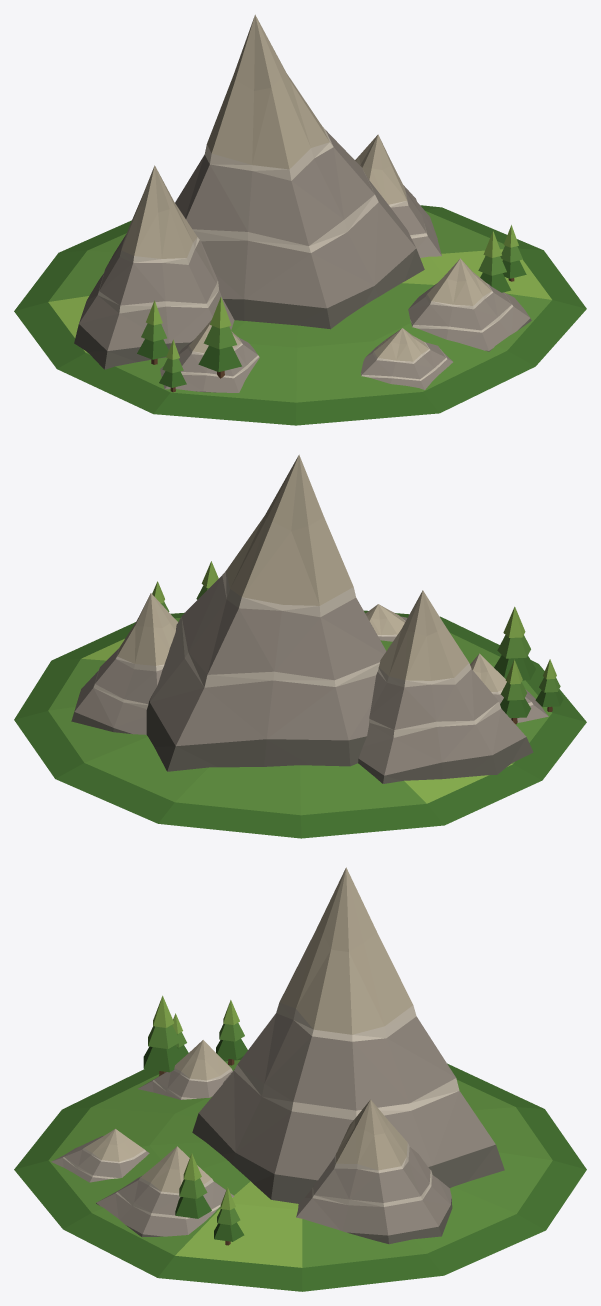
Rendered from mountain_a.glb.
The picture shows the model from 3 angles, top to bottom: view 1: azimuth 30°, elevation 25°; view 2: azimuth 150°, elevation 25°; view 3: azimuth 270°, elevation 25°; orthographic projection. The views are drawn at different scales.
Parts seen in each view (by area): view 1: mountain_a; view 2: mountain_a; view 3: mountain_a.
Boxes of the visible parts, bbox=[...] form: mountain_a: bbox=[14, 14, 586, 425]; mountain_a: bbox=[14, 454, 586, 838]; mountain_a: bbox=[14, 867, 586, 1291].
Bounding box in the file's own units: 1.77 × 0.99 × 1.76.
